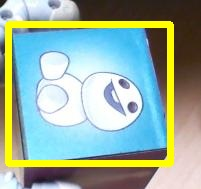Blue1: (8, 24, 170, 163)
